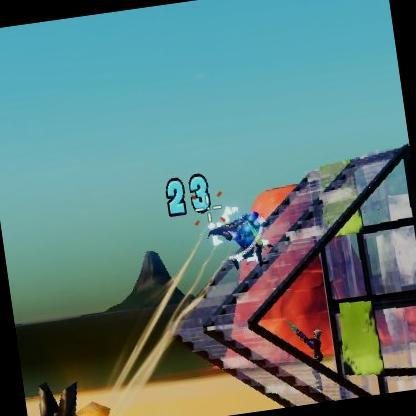person: (302, 324, 329, 392), (228, 210, 260, 262)
